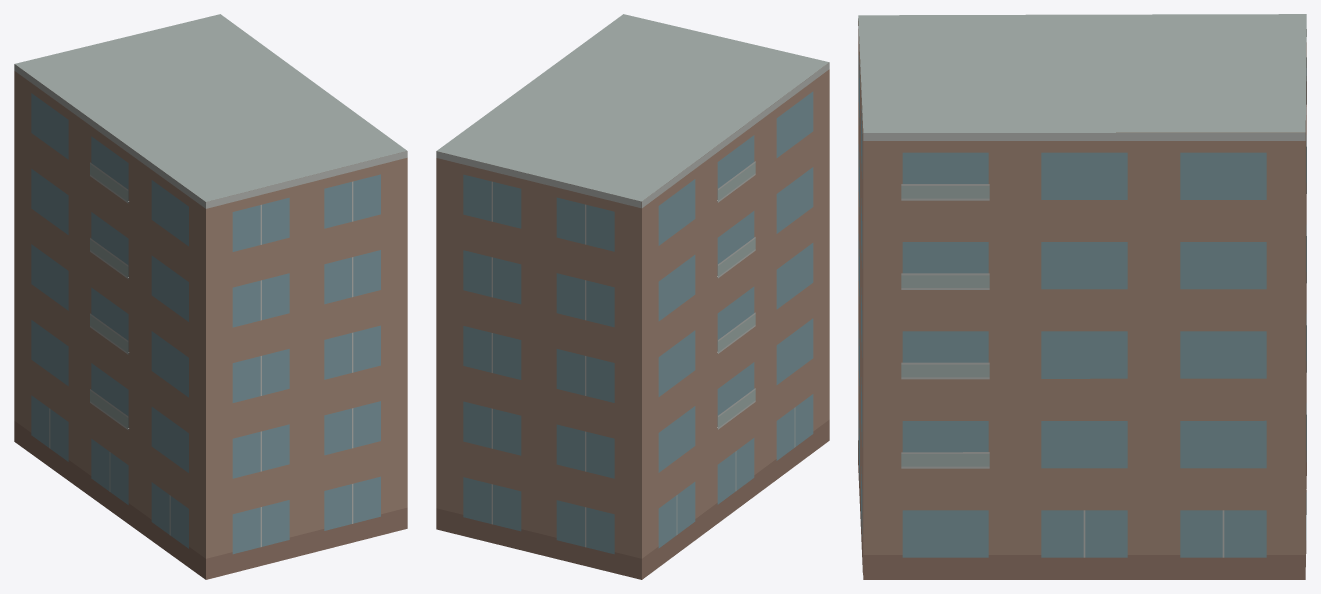
The model's file is survey-upis-32974182.glb.
The picture shows the model from 3 angles, left to right: view 1: azimuth 30°, elevation 25°; view 2: azimuth 150°, elevation 25°; view 3: azimuth 270°, elevation 25°; orthographic projection. The views are drawn at different scales.
Parts seen in each view (by area): view 1: survey-upis-32974182.tmp; view 2: survey-upis-32974182.tmp; view 3: survey-upis-32974182.tmp.
Part boxes in pixels (x1=…): survey-upis-32974182.tmp: x1=14, y1=14, x2=407, y2=579; survey-upis-32974182.tmp: x1=436, y1=14, x2=829, y2=579; survey-upis-32974182.tmp: x1=858, y1=14, x2=1306, y2=579.
Bounding box in the file's own units: 7.74 × 13.5 × 12.29.
